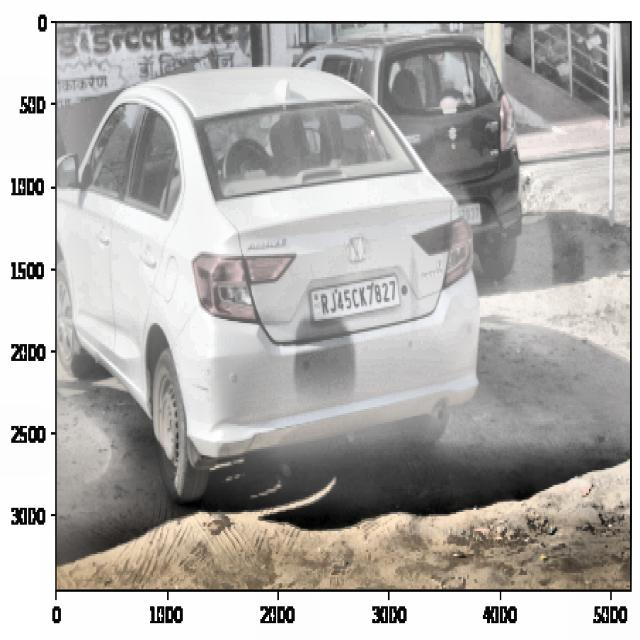license_plate: (316, 275, 402, 316)
